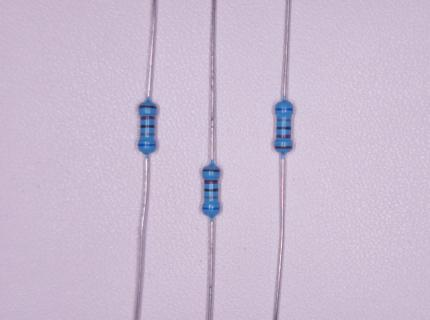Black band: (140, 125, 155, 128), (204, 189, 218, 192), (277, 127, 291, 130)
Blue band: (138, 144, 156, 147), (275, 108, 293, 111), (202, 207, 219, 210)
Brown band: (140, 105, 157, 109), (202, 169, 219, 172), (275, 146, 292, 149)
Grey band: (140, 133, 154, 136), (204, 196, 218, 199), (277, 119, 291, 121)
Red band: (141, 116, 155, 120), (204, 180, 218, 184), (277, 134, 291, 138)
